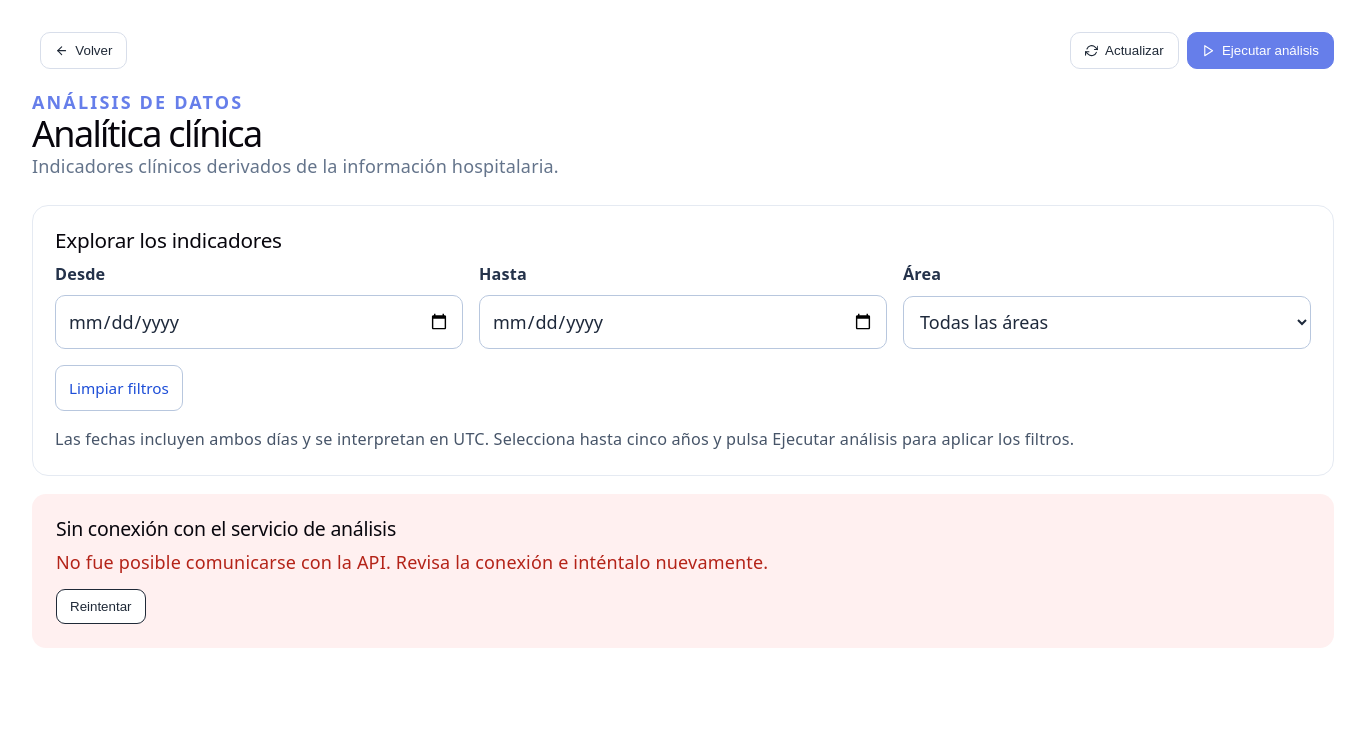
Test case: PBL-04-T3 — estados y acciones visibles de Spark › sin conexión muestra una acción de reintento que recupera la vista
Expected: the message shows "Sin conexión con el servicio de análisis", [56,515,396,542]
Click the button "Reintentar": (101, 606) [56,589,146,624]
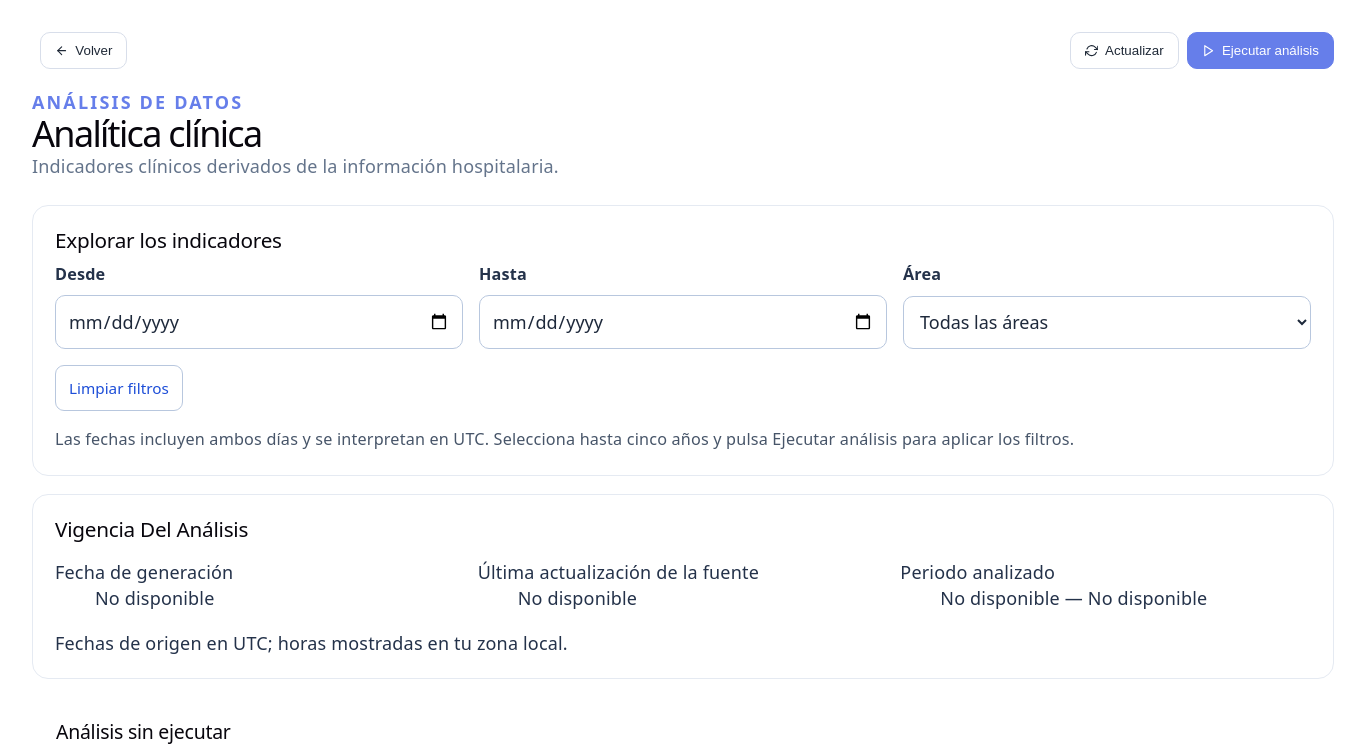
Result: the text "Análisis sin ejecutar" is shown at [56,718,231,745]
